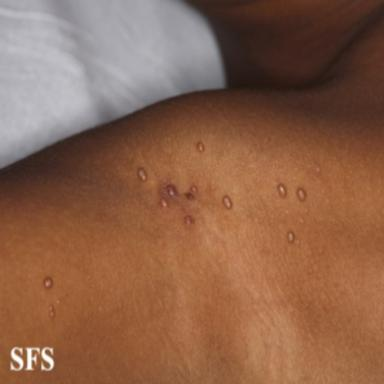Molluscum-Contagiosum: (277, 184, 287, 198), (166, 185, 177, 197), (43, 277, 53, 289), (297, 188, 306, 201), (223, 196, 232, 209), (138, 169, 146, 181), (49, 305, 55, 320), (197, 141, 204, 152), (288, 232, 294, 243), (160, 199, 167, 208), (185, 216, 192, 225), (191, 186, 197, 193)
